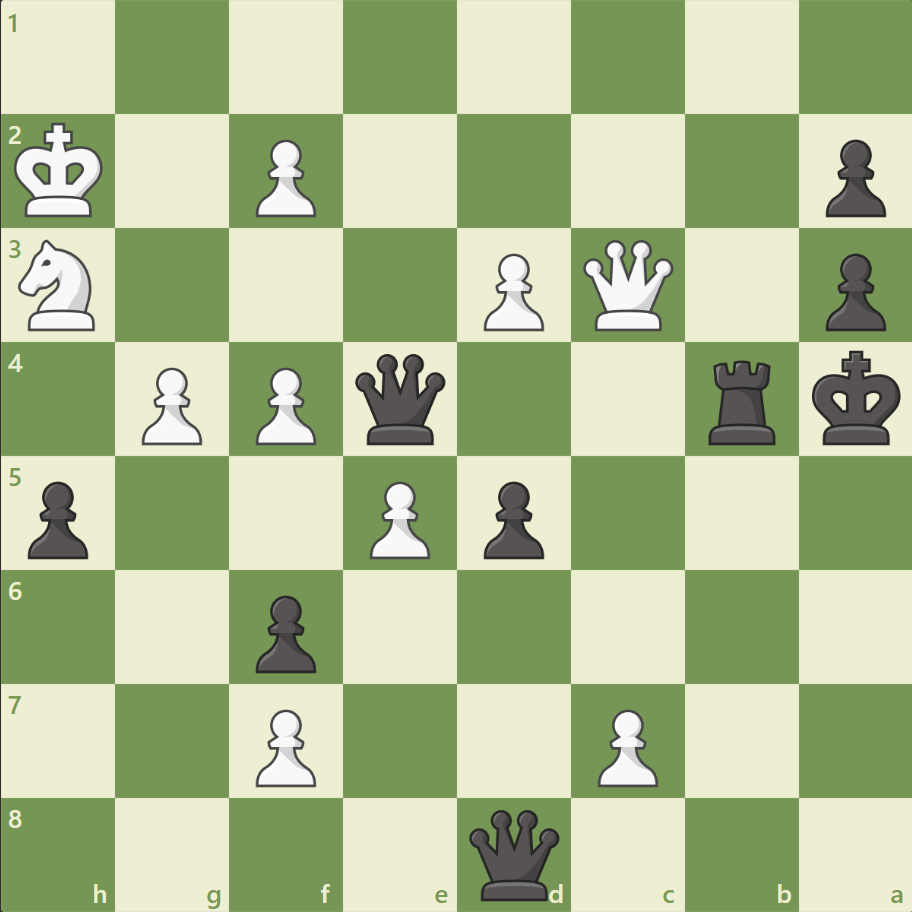K: (11, 117, 111, 225)
N: (11, 234, 108, 337)
P: (247, 700, 322, 791), (247, 359, 322, 450), (133, 359, 208, 450), (474, 246, 549, 337), (247, 132, 322, 223), (588, 700, 662, 791), (361, 473, 435, 564)
Q: (578, 236, 677, 335)
k: (806, 344, 906, 452)
p: (247, 586, 322, 677), (474, 473, 549, 564), (20, 473, 95, 564), (815, 246, 889, 337), (815, 132, 889, 223)
q: (351, 349, 450, 449), (464, 804, 563, 903)
r: (700, 352, 783, 449)
